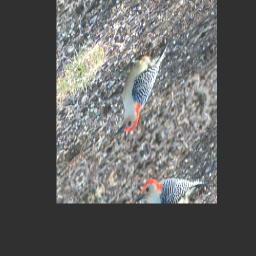Woodpecker: (101, 25, 180, 143)
